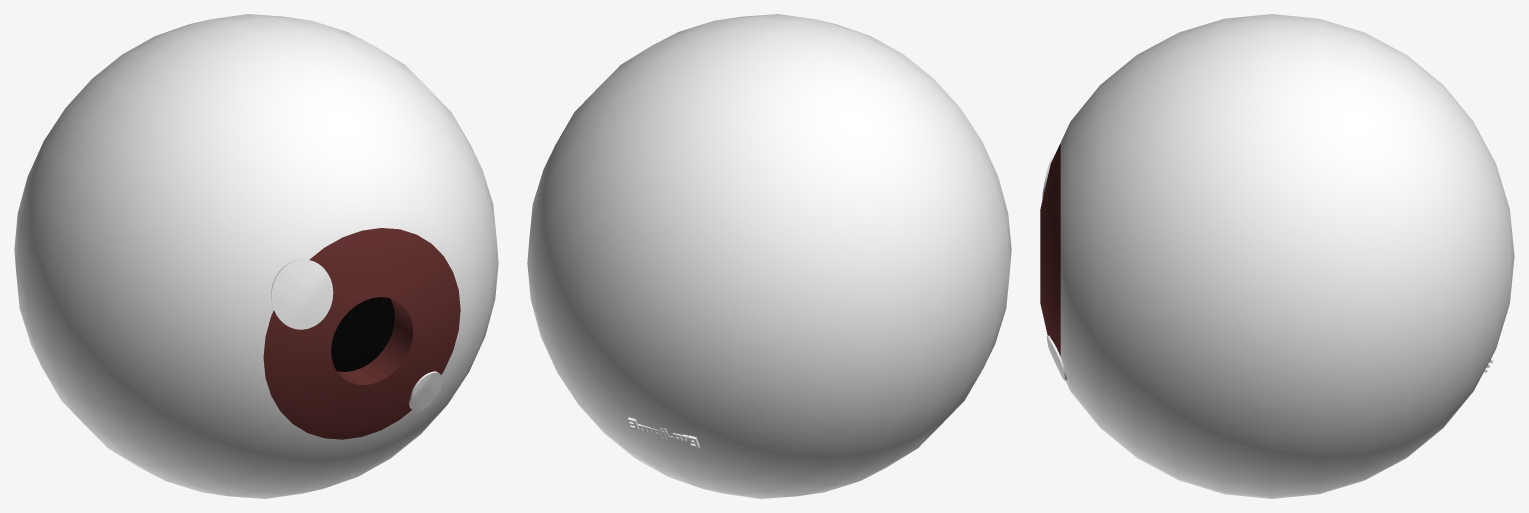
Rendered from eye.glb.
3 renders of one model, left to right at view 1: azimuth 30°, elevation 25°; view 2: azimuth 150°, elevation 25°; view 3: azimuth 270°, elevation 25°, orthographic.
Visible parts, largest first — view 1: Sphere.026, Circle.286; view 2: Sphere.026; view 3: Sphere.026.
Boxes of the visible parts, left/top/right/bottom form: Sphere.026: left=14, top=14, right=498, bottom=498; Circle.286: left=271, top=259, right=441, bottom=411; Sphere.026: left=527, top=14, right=1011, bottom=498; Sphere.026: left=1040, top=14, right=1514, bottom=498.
Size of the model in its own units: 2.25 by 2.25 by 2.19.
1 material, 1 textured.
